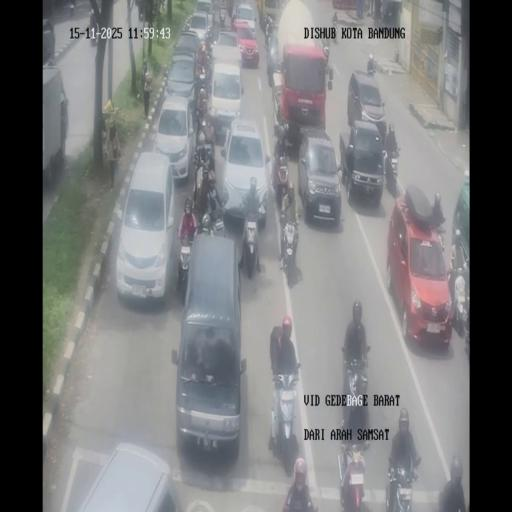3: (280, 40, 328, 144), (42, 66, 68, 186)
car: (172, 238, 246, 455), (387, 192, 453, 346), (116, 150, 175, 303), (63, 442, 180, 510), (220, 118, 268, 229), (298, 128, 342, 227), (340, 120, 386, 206), (152, 95, 194, 182), (208, 60, 245, 142), (168, 30, 201, 86), (187, 10, 212, 44), (233, 2, 256, 36), (214, 28, 240, 58), (42, 19, 55, 64)
truck: (267, 361, 303, 469), (337, 436, 370, 511), (341, 354, 370, 434), (385, 452, 417, 511), (452, 268, 470, 363), (238, 212, 263, 278), (279, 224, 299, 282), (272, 154, 291, 208), (176, 234, 192, 294), (383, 141, 401, 188), (197, 137, 216, 176), (195, 53, 212, 96), (194, 90, 208, 129), (209, 208, 226, 237), (282, 124, 294, 159), (262, 12, 274, 46), (332, 11, 340, 40), (322, 36, 330, 62), (210, 1, 218, 23), (366, 58, 376, 75), (219, 4, 226, 26), (69, 2, 74, 18)
